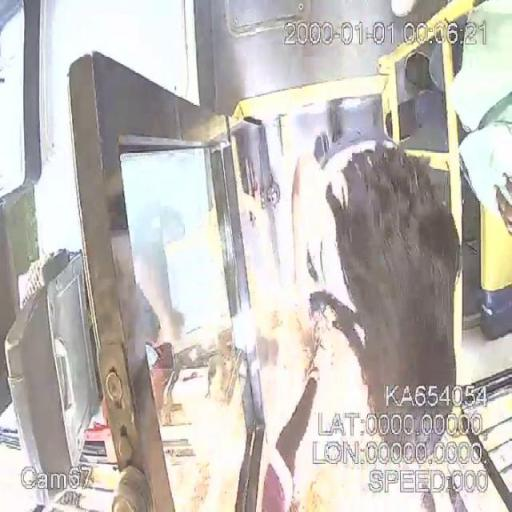persona: (270, 138, 468, 510)
